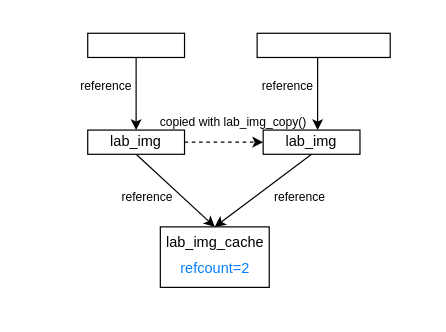
Some shapes in this 446 by 332 pixel diagram are drawn without their labels. Here are the shapes that lost their labels. From the top down, the centre of each, then its label:
At point (136, 44): "theme".
At point (323, 44): "scaled_img_buffer".
